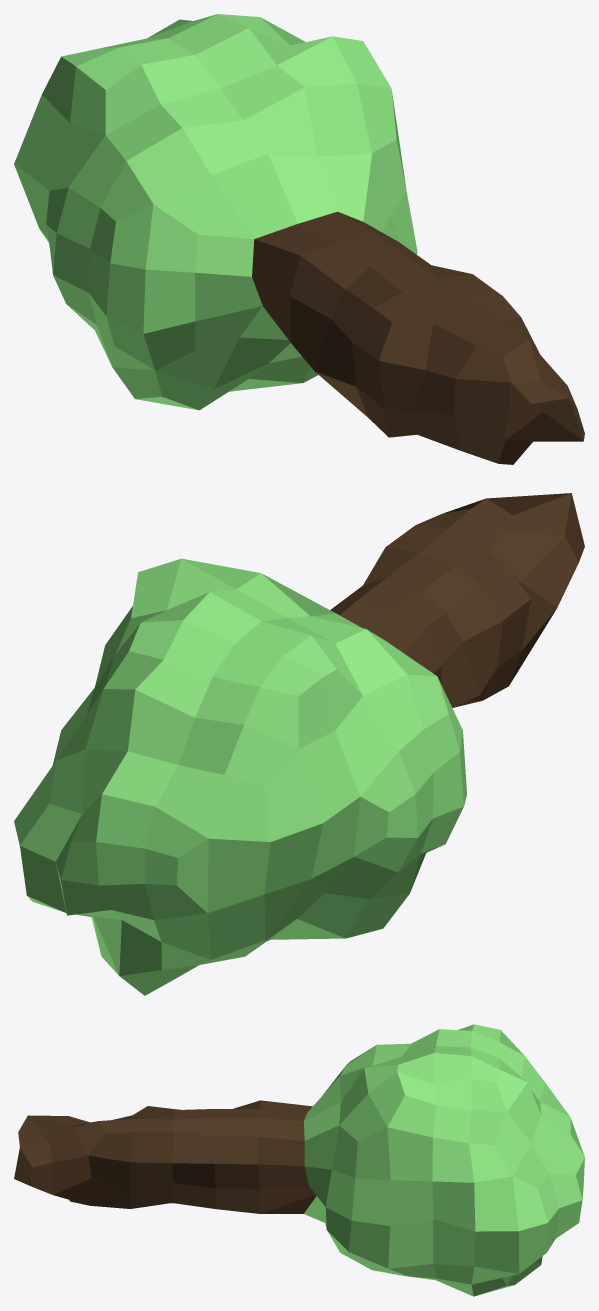
The model's file is Low_Poly_Tree.fbx.
3 renders of one model, top to bottom at view 1: azimuth 30°, elevation 25°; view 2: azimuth 150°, elevation 25°; view 3: azimuth 270°, elevation 25°, orthographic. The views are drawn at different scales.
Visible parts, largest first — view 1: Low Poly Tree; view 2: Low Poly Tree; view 3: Low Poly Tree.
Part boxes in pixels (x1,y1,x2,y2): Low Poly Tree: [14, 14, 584, 464]; Low Poly Tree: [14, 493, 584, 995]; Low Poly Tree: [14, 1024, 584, 1296].
Size of the model in its own units: 174 by 180 by 396.
